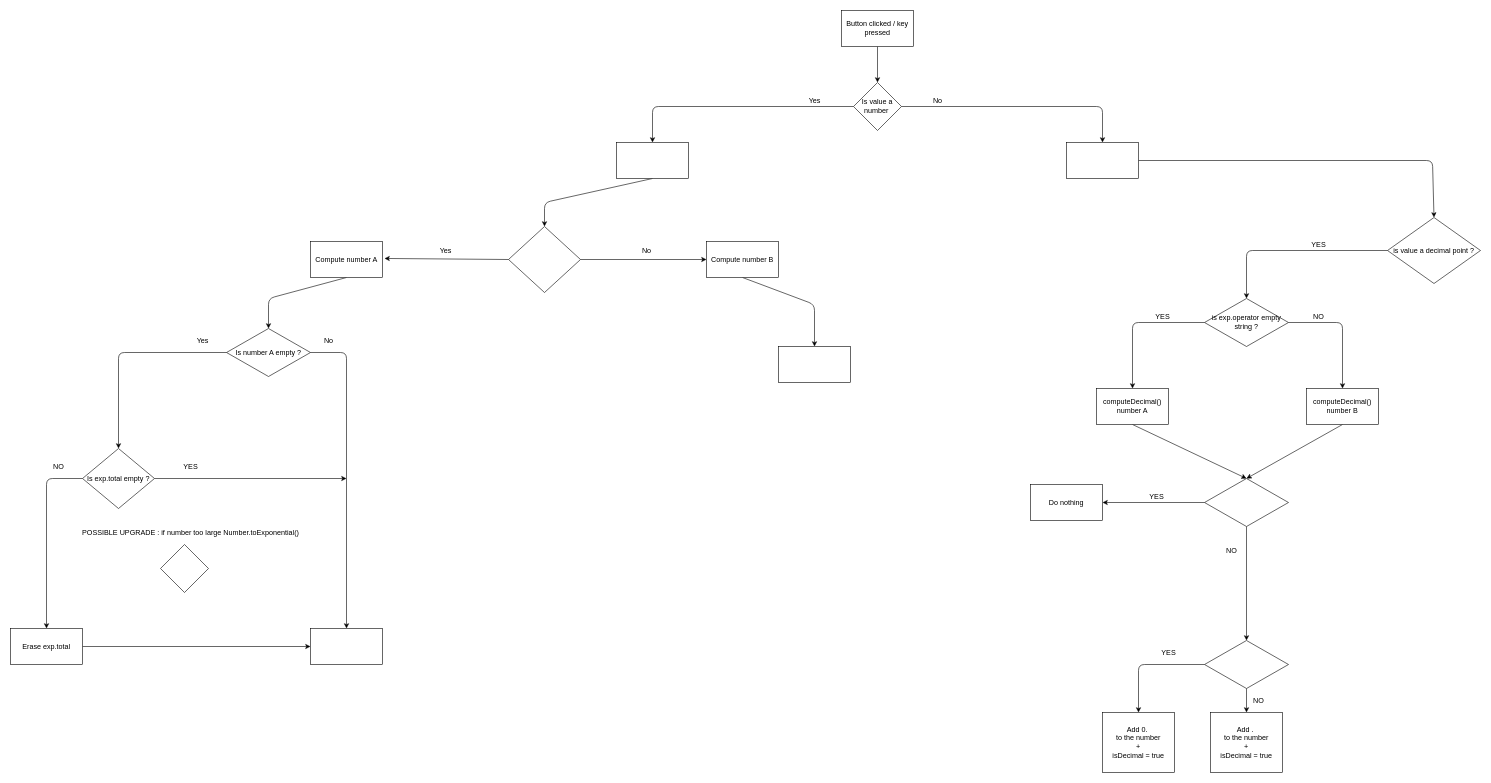
Image size: 1491x783. Some labels were removed from this diagram. The shapes that lost their labels are listed below. From the top down, each one's centre as x and y in pixels, then its label:
the point at 652,160: computeNumber()
the point at 1102,160: computeSymbol()
the point at 544,259: Is exp.operator == empty string ?
the point at 814,364: Add value to number B
the point at 1246,502: isDecimal ?
the point at 346,646: Add value to number A
the point at 1246,664: isNumber empty?
